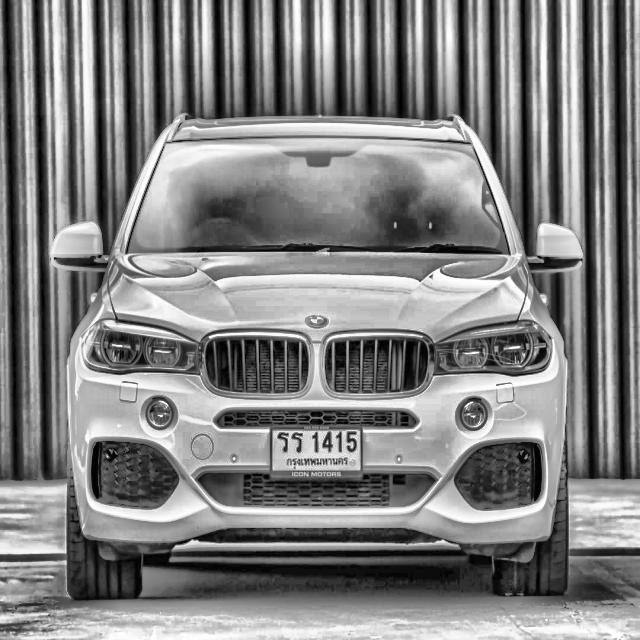license-plate: (269, 425, 366, 482)
